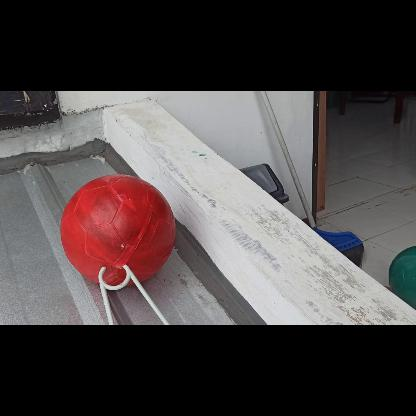red_ball: (61, 174, 175, 288)
